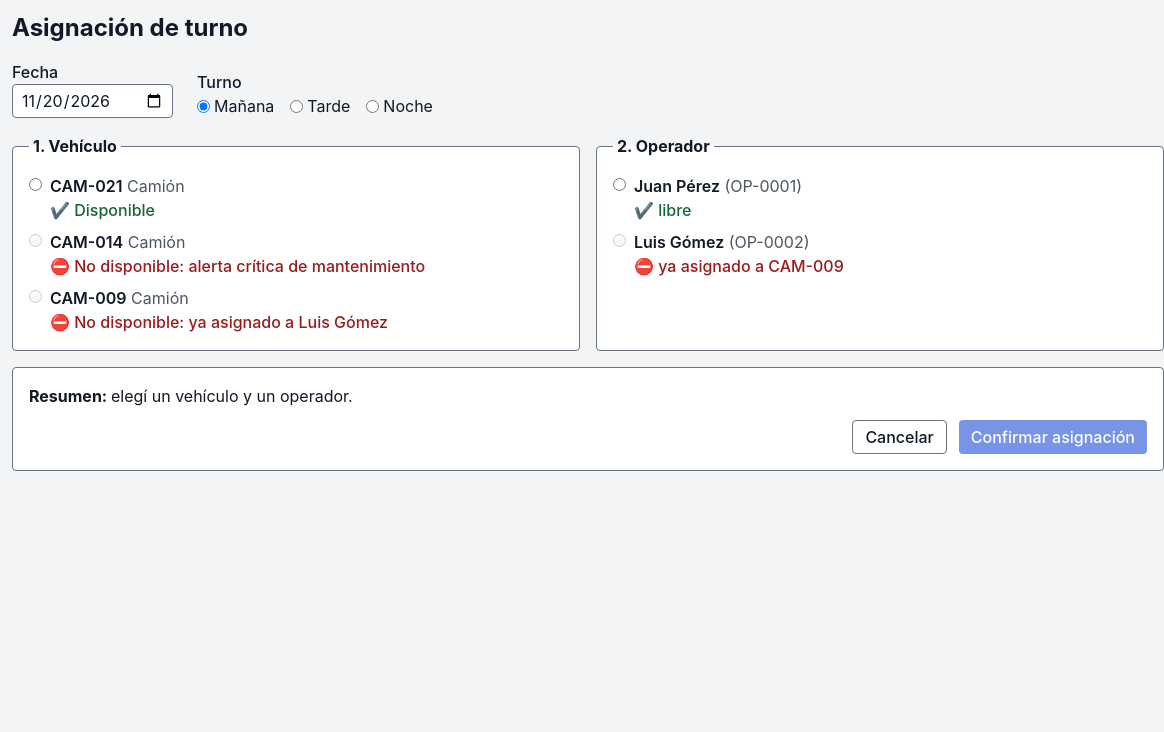
Test case: ShiftsPage › confirma: envía el cuerpo correcto, avisa el éxito y limpia la selección
The width and height of the screenshot is (1164, 732).
What coordinates should you click on to do the following:
click the radio button labelled "CAM-021 Camión✔ Disponible"
I would click on:
 (36, 184)
Its box is [29,178,42,191].
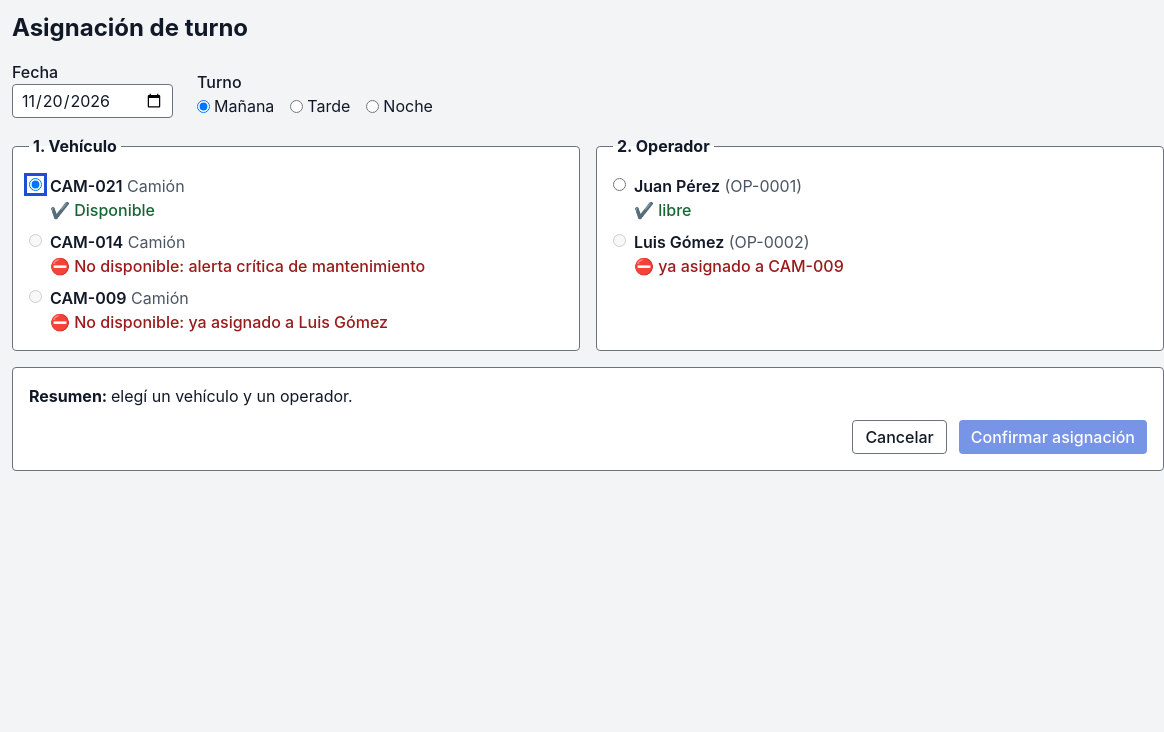
What coordinates should you click on to do the following:
click the radio button labelled "Juan Pérez (OP-0001)✔ libre"
I would click on:
 (620, 184)
Its box is [613,178,626,191].
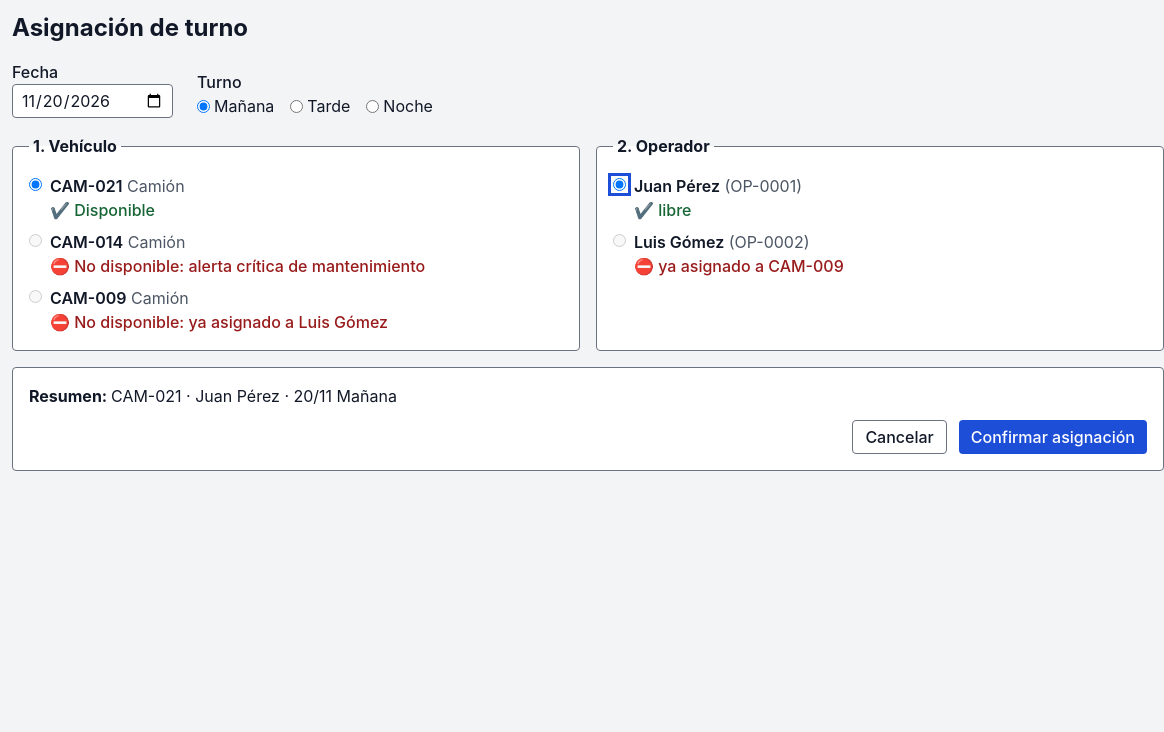
What coordinates should you click on to do the following:
click the button "Confirmar asignación"
I would click on:
 (1053, 437)
Its box is [959,420,1147,454].
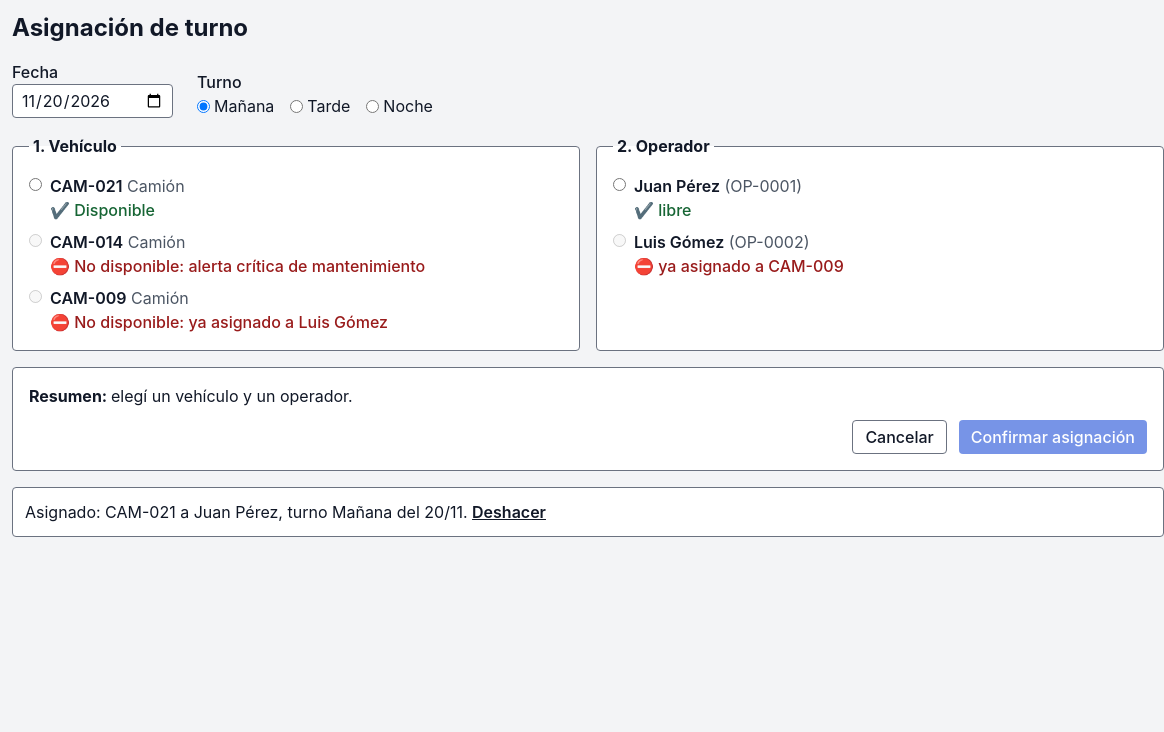
Expected: the text "Asignado: CAM-021 a Juan Pérez, turno Mañana del 20/11. Deshacer" is shown, [12,487,1163,537]
Expected: the button "Confirmar asignación" is disabled, [959,420,1147,454]
